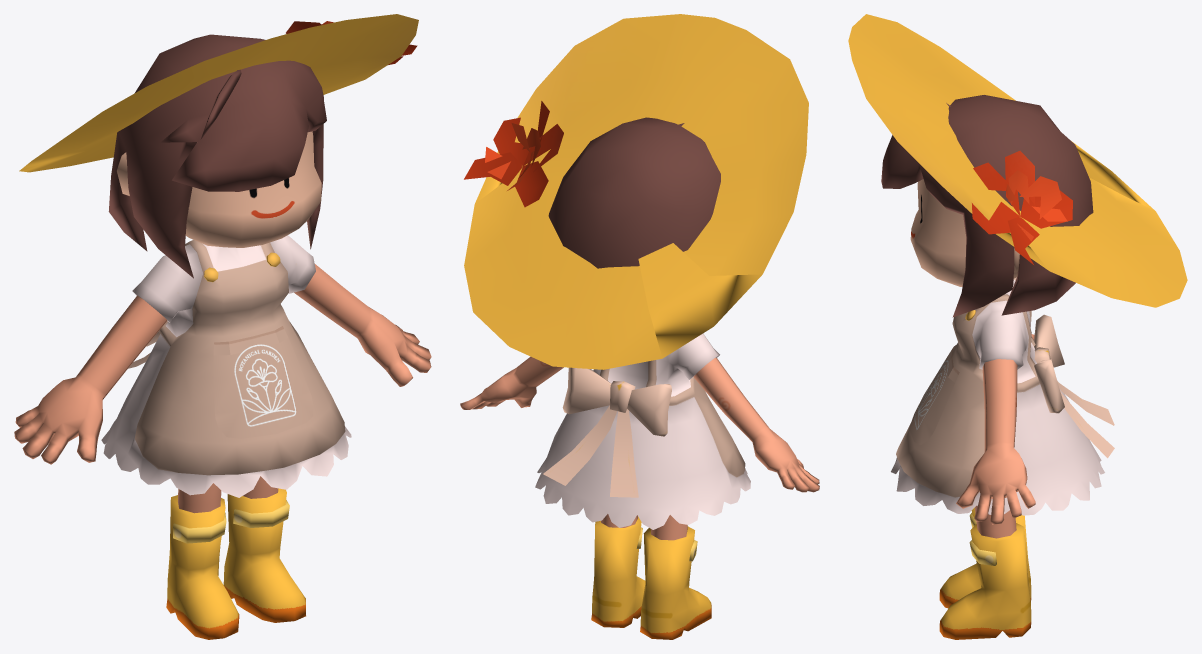
Rendered from girlTest.obj.
3 renders of one model, left to right at view 1: azimuth 30°, elevation 25°; view 2: azimuth 150°, elevation 25°; view 3: azimuth 270°, elevation 25°, orthographic. The views are drawn at different scales.
Visible parts, largest first — view 1: Object003; view 2: Object003; view 3: Object003.
Boxes of the visible parts, box(x1,y1,x2,y2) form: Object003: box(14, 14, 431, 639); Object003: box(460, 14, 819, 639); Object003: box(848, 14, 1187, 639).
Size of the model in its own units: 0.2886 by 0.4341 by 0.2322.
